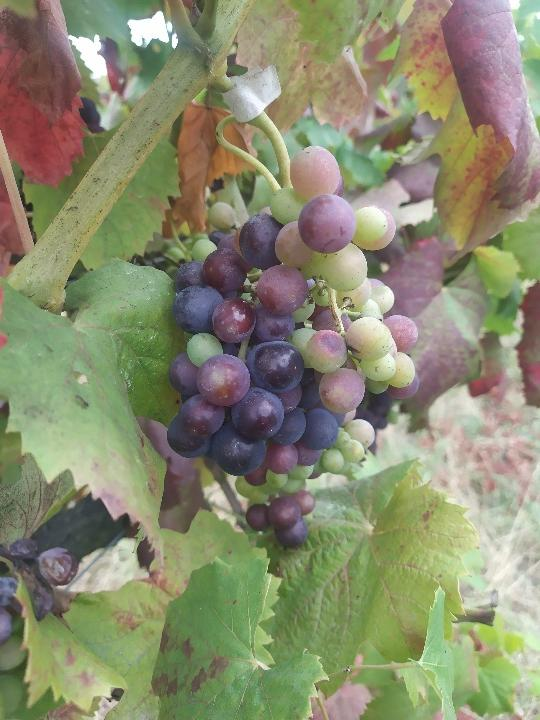grape: (157, 139, 422, 548)
